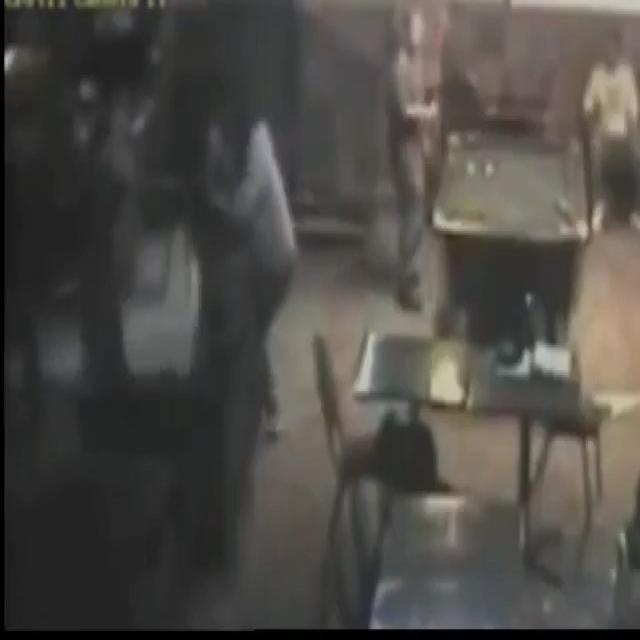fight: (146, 105, 319, 447)
